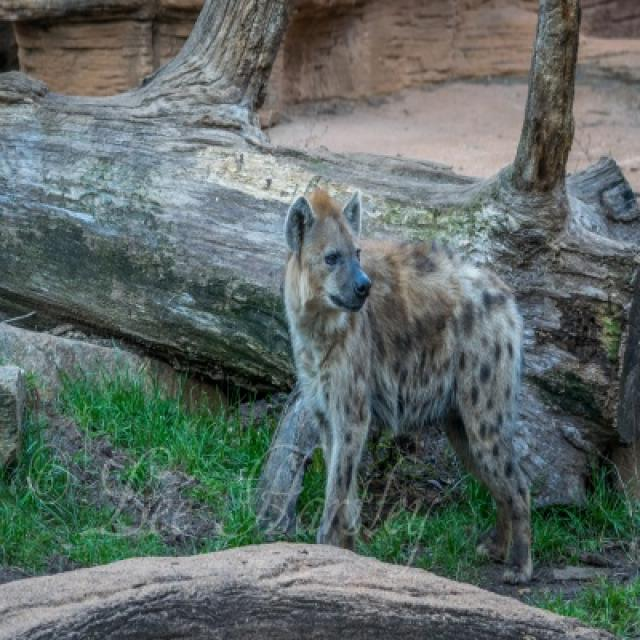hyena: (256, 186, 533, 586)
